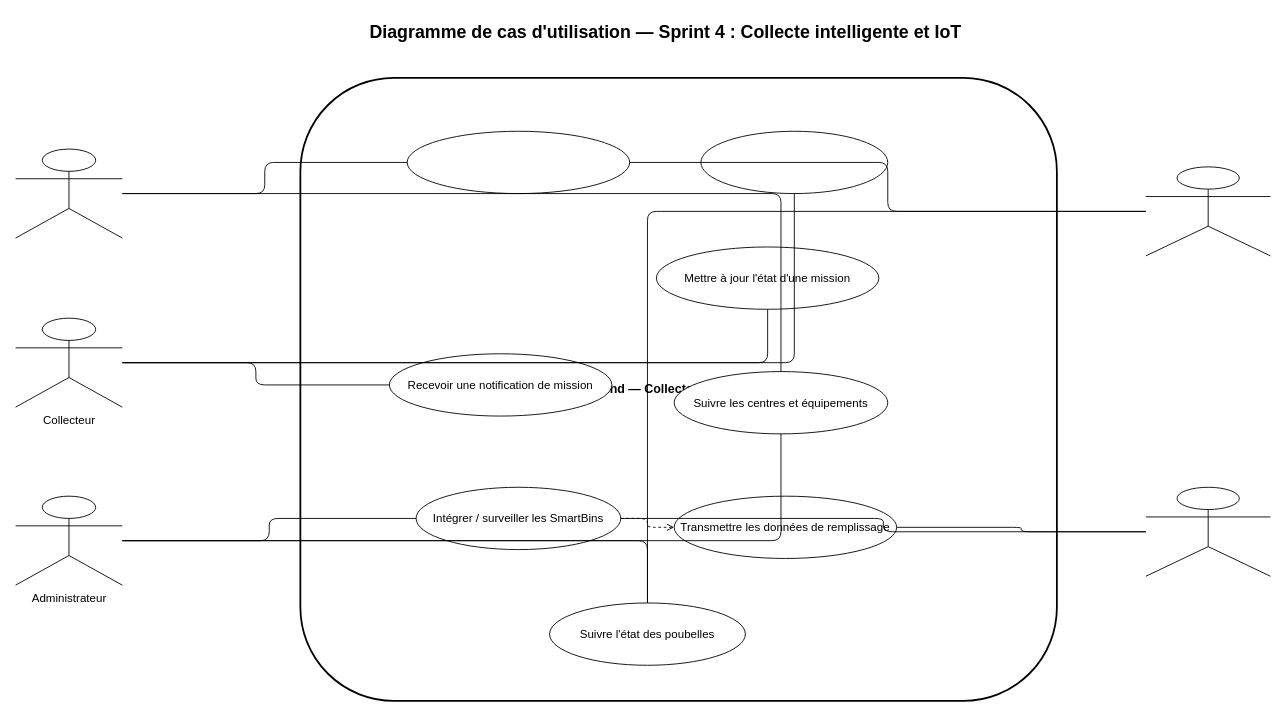
The diagram is 1286 pixels wide and 716 high, and some of its shapes have lost their labels. Here are the shapes that lost their labels. From the top down, the centre of each, then its label:
(518,162): Créer / affecter une mission de collecte
(794,162): Consulter les missions
(68,193): Intercommunalité
(1207,211): Super Administrateur
(1207,531): Firebase / IoT
